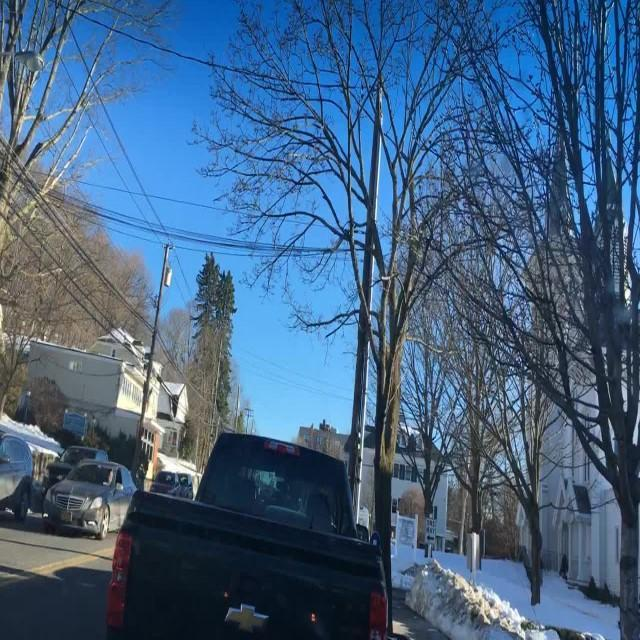normal: (77, 392, 425, 640), (41, 458, 137, 538)
